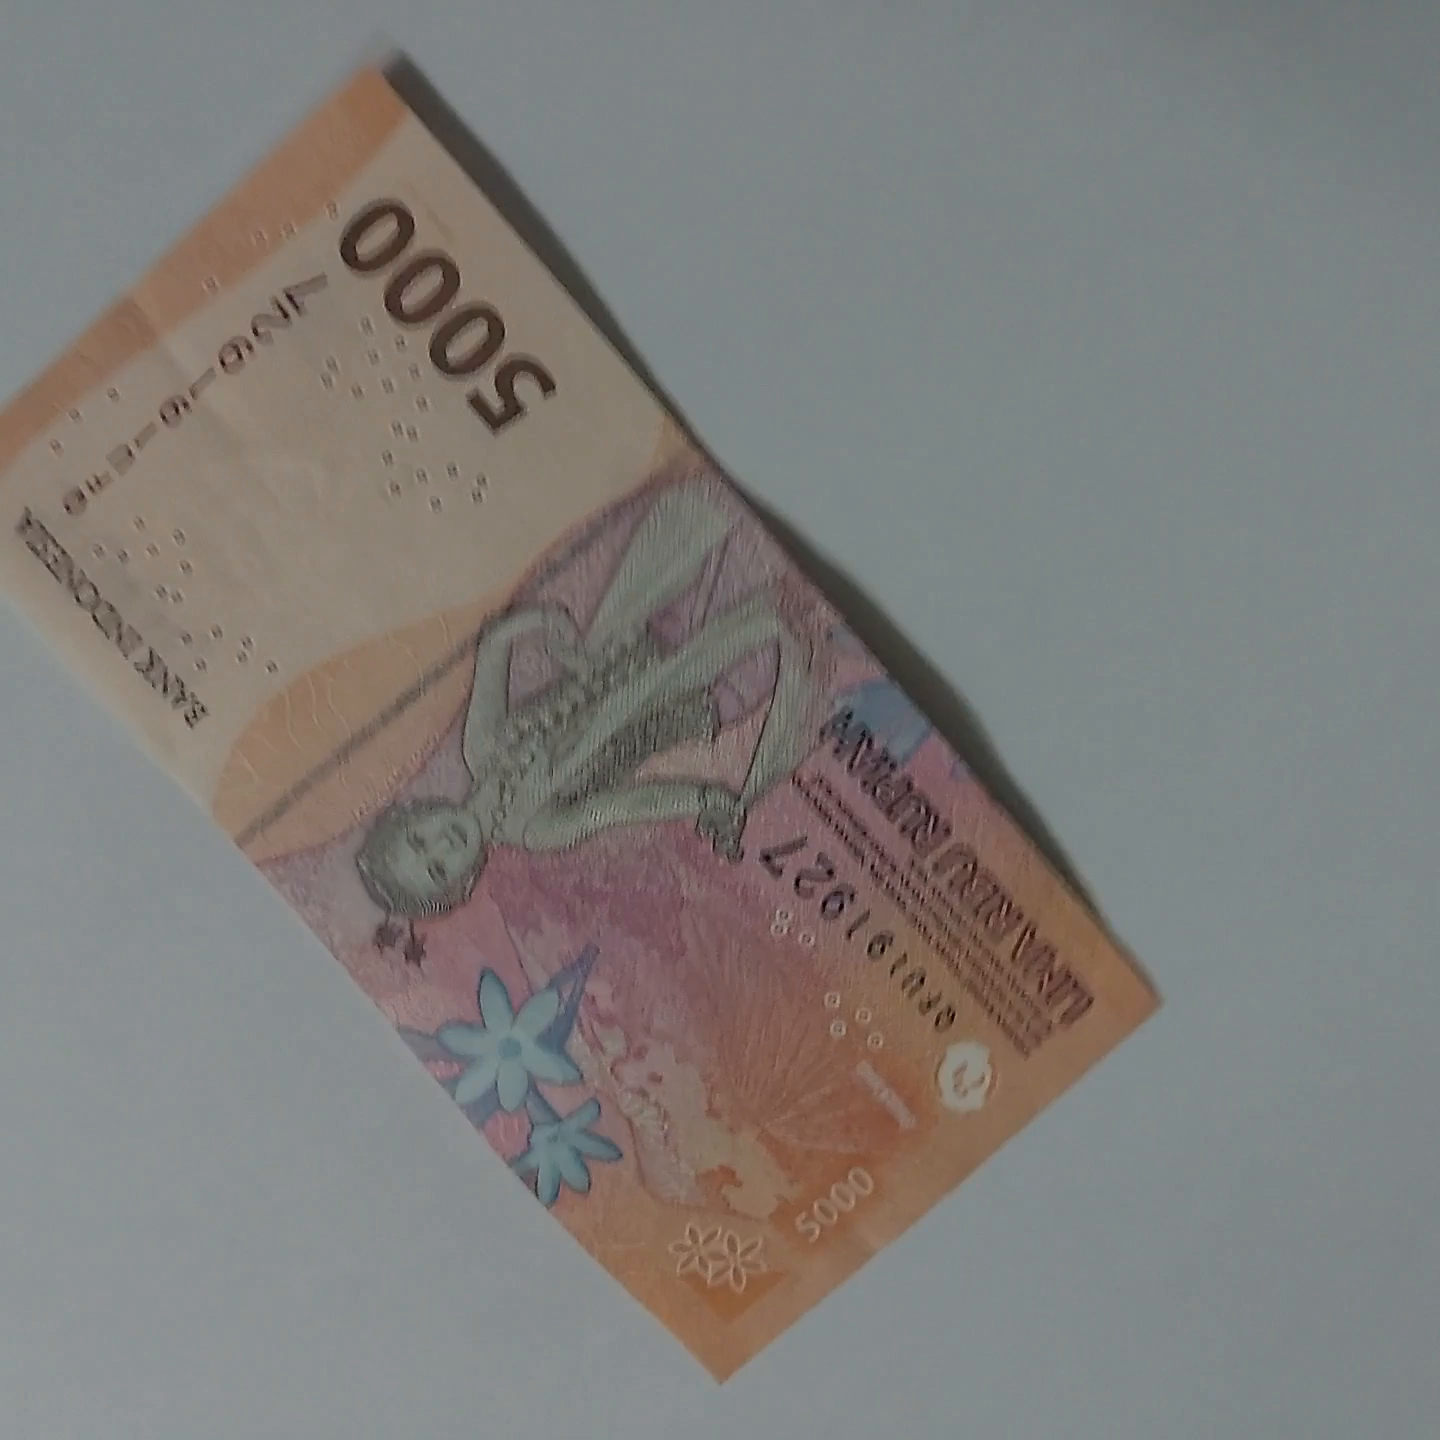5k: (11, 607, 732, 1440)
